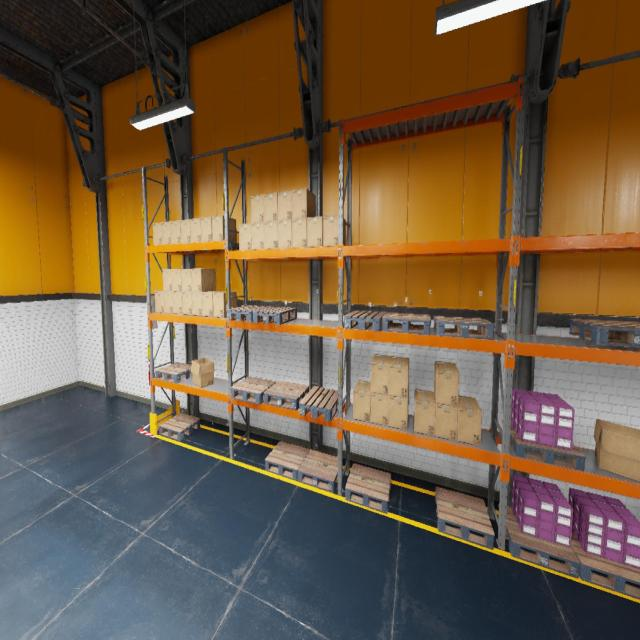box: (594, 419, 640, 482), (457, 395, 482, 446), (434, 392, 458, 441), (434, 361, 459, 406), (414, 389, 436, 436), (388, 356, 408, 398), (388, 388, 408, 430), (371, 354, 391, 395), (190, 358, 215, 388), (323, 214, 346, 246), (353, 380, 370, 422), (292, 188, 315, 219), (212, 215, 236, 242), (370, 392, 389, 426), (212, 292, 236, 317), (191, 268, 216, 292), (202, 291, 225, 316), (307, 216, 323, 247), (292, 218, 307, 248), (277, 190, 292, 220), (250, 194, 264, 223), (278, 220, 292, 248), (264, 221, 278, 249), (264, 192, 277, 222), (251, 222, 264, 250), (239, 223, 251, 250), (200, 216, 212, 242), (190, 218, 201, 242), (192, 292, 202, 316), (181, 268, 191, 292), (180, 219, 190, 243), (172, 268, 182, 291), (170, 220, 180, 243), (161, 221, 171, 244), (182, 292, 192, 314), (172, 292, 182, 314), (163, 291, 173, 313), (162, 269, 172, 291), (155, 290, 164, 313), (153, 222, 162, 245)
pallets: (498, 504, 580, 578), (571, 532, 640, 599), (502, 422, 586, 471), (435, 486, 495, 550), (345, 464, 391, 514), (569, 319, 640, 347), (298, 449, 342, 493), (265, 441, 309, 480), (299, 386, 338, 422), (434, 316, 494, 339), (264, 381, 309, 410), (230, 376, 276, 404), (159, 413, 200, 441), (382, 312, 431, 335), (344, 311, 387, 331), (253, 306, 297, 324), (155, 362, 192, 383), (226, 305, 271, 322)
